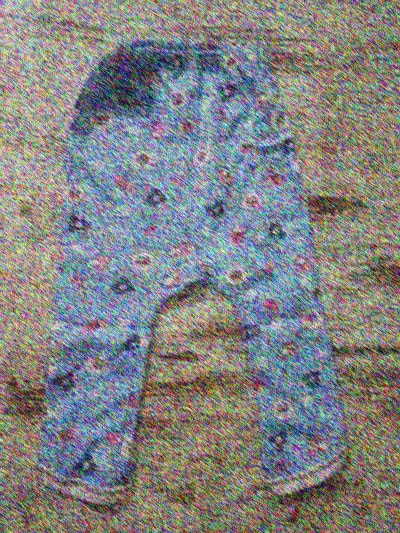Pants: (25, 21, 363, 511)
